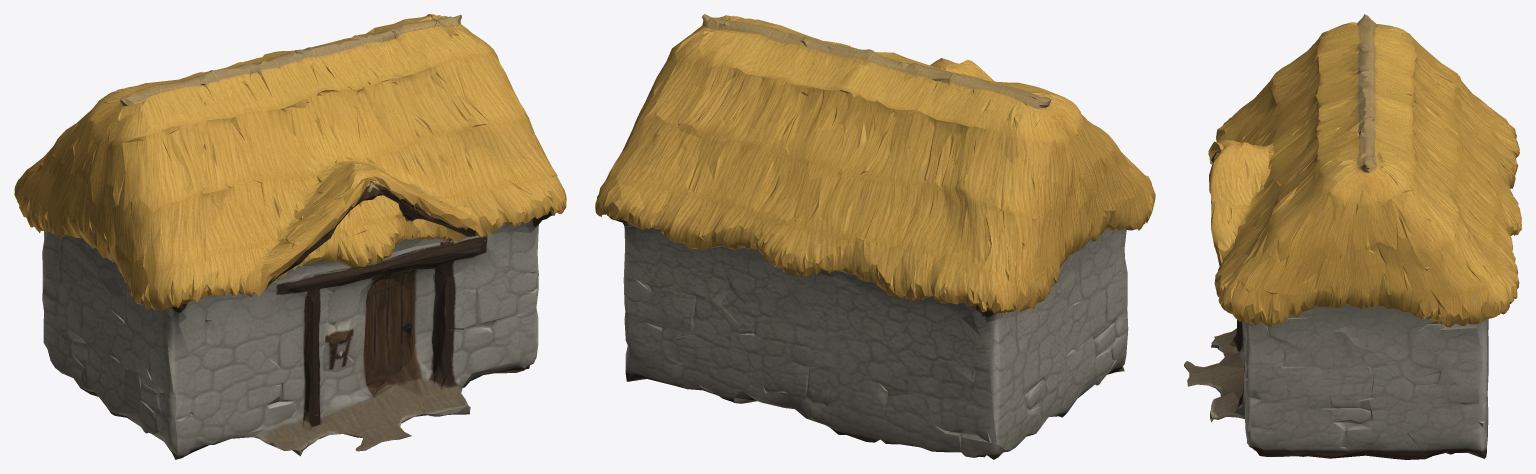
File: hut.glb
3 views of the same model, side by side, from view 1: azimuth 30°, elevation 25°; view 2: azimuth 150°, elevation 25°; view 3: azimuth 270°, elevation 25° (orthographic). The views are drawn at different scales.
Parts seen in each view (by area): view 1: output_unwrapped; view 2: output_unwrapped; view 3: output_unwrapped.
Part boxes in pixels (<box>): output_unwrapped: <box>14,14,566,459</box>; output_unwrapped: <box>595,14,1155,459</box>; output_unwrapped: <box>1184,14,1521,459</box>.
Bounding box in the file's own units: 1.89 × 1.38 × 1.43.
1 material, 1 textured.
